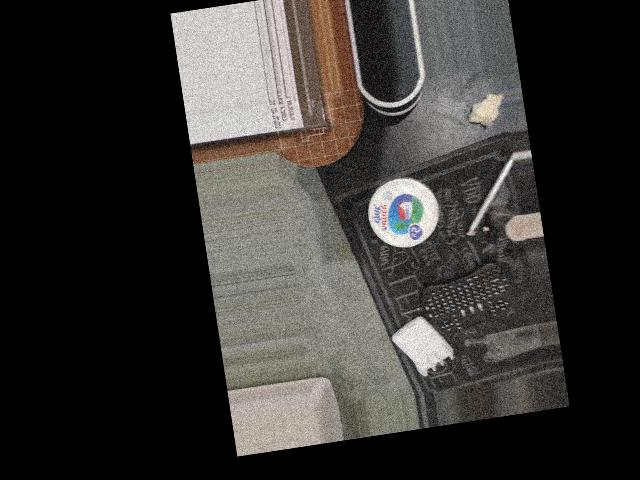cotage: (349, 169, 445, 257)
